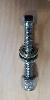FinishedAssembly: (15, 13, 44, 92)
